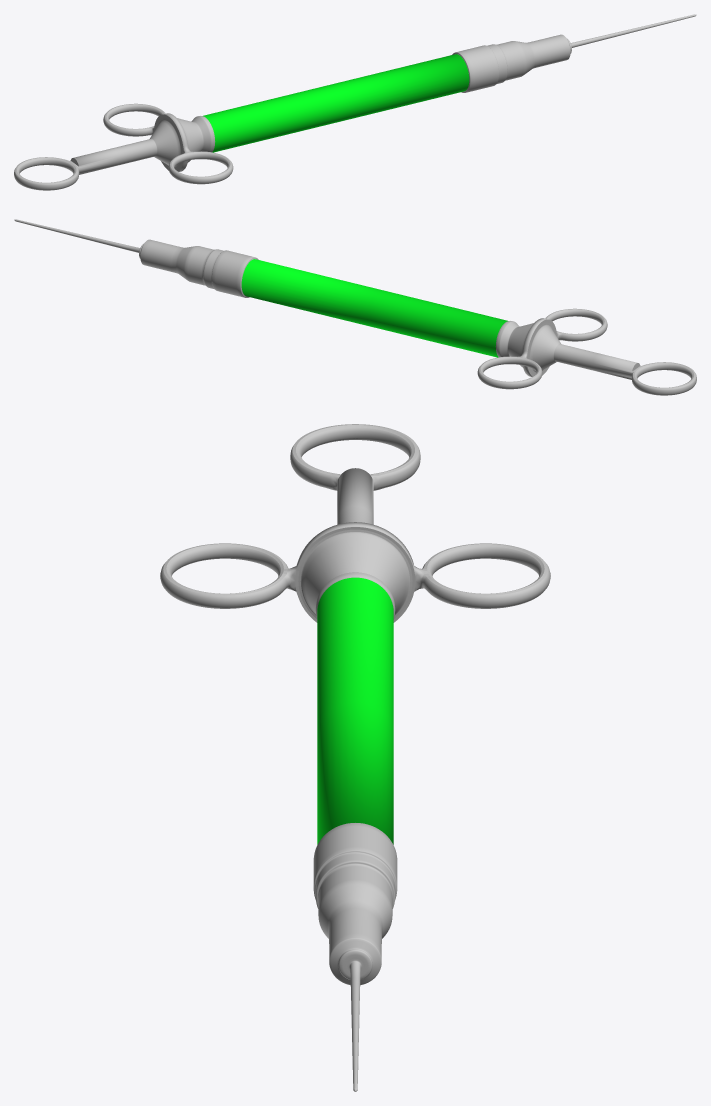
The model's file is Syringe.fbx.
3 views of the same model, one above another, from view 1: azimuth 30°, elevation 25°; view 2: azimuth 150°, elevation 25°; view 3: azimuth 270°, elevation 25° (orthographic). The views are drawn at different scales.
Parts seen in each view (by area): view 1: Syringe; view 2: Syringe; view 3: Syringe.
Boxes of the visible parts, bbox=[...] form: Syringe: bbox=[14, 14, 696, 190]; Syringe: bbox=[14, 219, 696, 395]; Syringe: bbox=[160, 424, 550, 1091].
Size of the model in its own units: 597 by 45.67 by 149.
